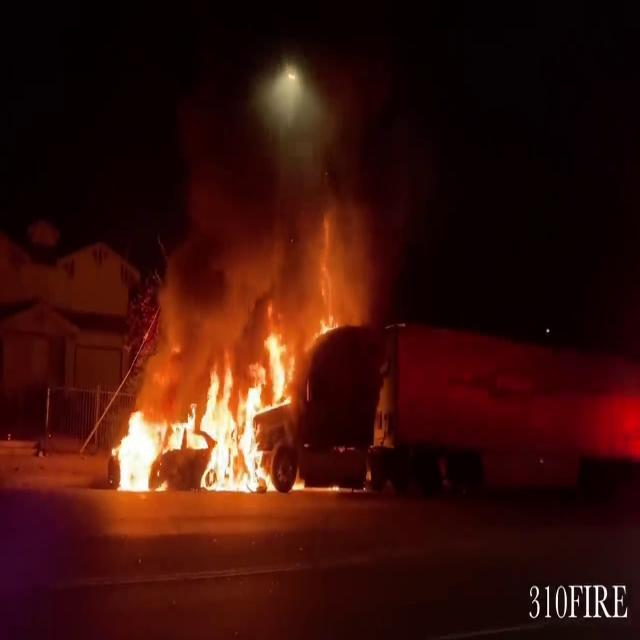Fire: (105, 329, 312, 499)
Smoke: (151, 49, 389, 347)
